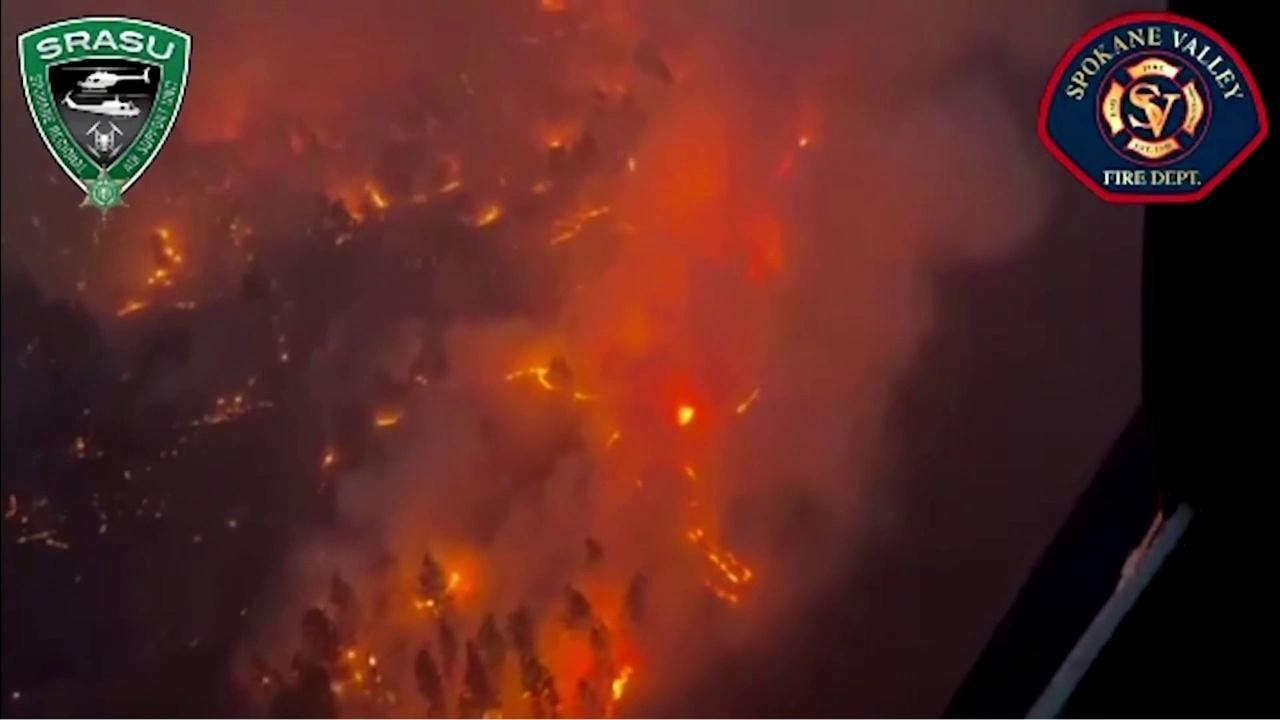fire: (545, 207, 610, 245), (707, 548, 753, 584), (203, 394, 254, 425), (502, 365, 554, 390), (14, 529, 71, 550), (608, 664, 634, 704), (158, 227, 183, 264), (734, 386, 761, 414), (707, 585, 740, 605), (475, 204, 500, 228), (145, 268, 173, 287), (115, 301, 148, 317), (677, 405, 694, 430), (410, 596, 436, 612), (321, 445, 338, 469), (367, 187, 386, 208), (445, 569, 461, 592), (5, 494, 18, 521), (606, 430, 622, 450), (573, 390, 596, 403), (374, 414, 398, 426), (439, 180, 461, 193), (684, 527, 703, 542), (625, 156, 638, 172), (328, 683, 344, 696), (684, 466, 697, 481), (548, 139, 563, 150), (414, 375, 429, 386), (368, 654, 379, 668), (260, 674, 272, 686), (76, 436, 85, 451), (796, 137, 808, 148), (279, 351, 290, 362), (348, 650, 358, 661), (11, 690, 22, 700)
smoke: (3, 0, 1098, 720)
